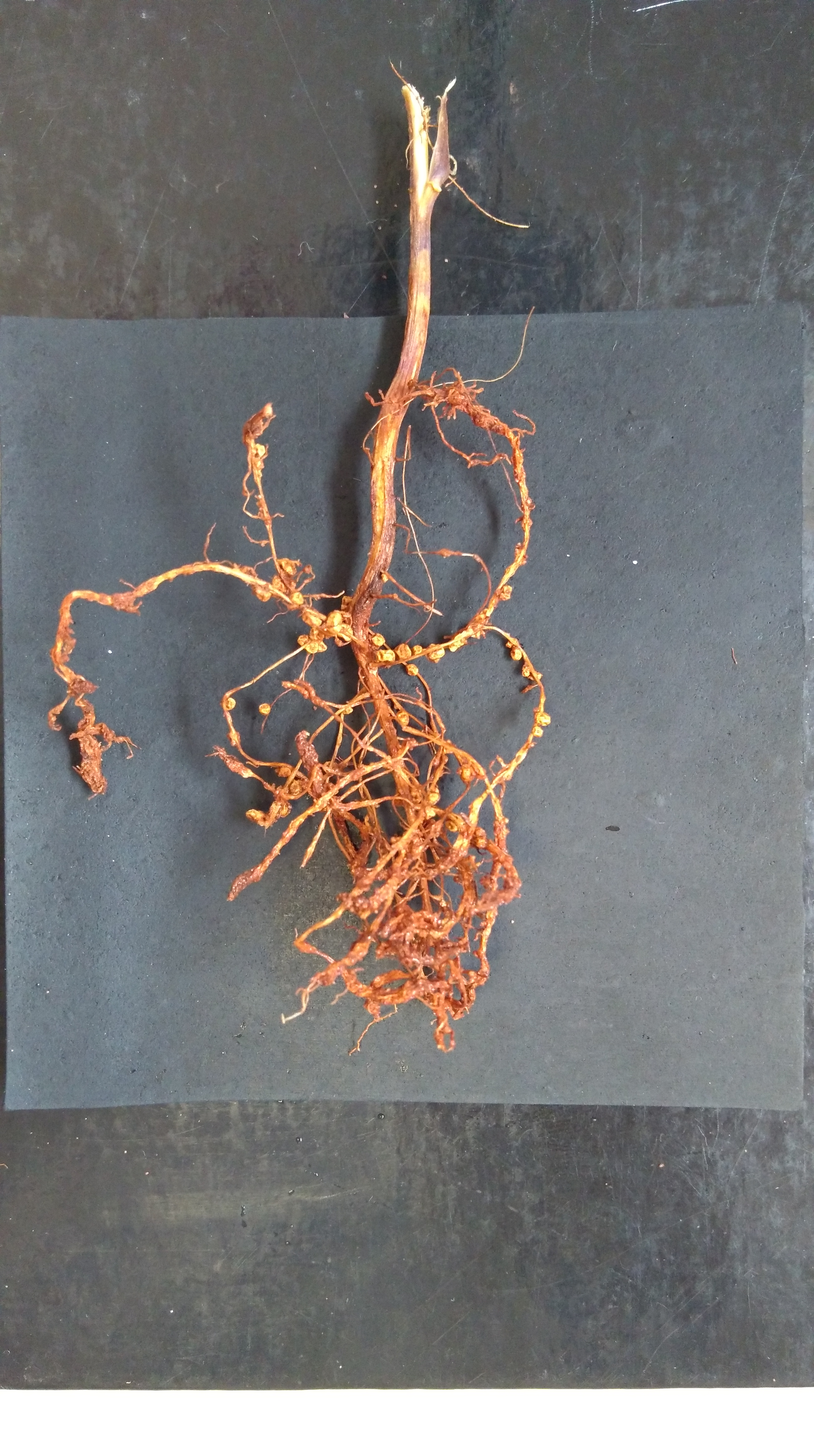nodule: (333, 622, 354, 647), (424, 642, 446, 664), (324, 609, 341, 634), (300, 611, 323, 628), (277, 557, 298, 575), (448, 636, 468, 653), (394, 642, 412, 660), (460, 763, 477, 782), (532, 711, 552, 727), (375, 648, 396, 663), (394, 709, 411, 726), (243, 809, 265, 822), (254, 588, 273, 603), (271, 574, 286, 593), (498, 584, 512, 603), (288, 779, 302, 797), (508, 646, 523, 662), (370, 632, 386, 647), (404, 662, 420, 677), (303, 641, 320, 655), (288, 592, 305, 605), (443, 819, 458, 833), (423, 805, 437, 820), (427, 791, 441, 805), (257, 702, 271, 716), (530, 725, 545, 738), (224, 696, 237, 711), (275, 766, 291, 778), (296, 634, 310, 647), (315, 640, 328, 654), (526, 671, 543, 681), (308, 627, 320, 641), (475, 835, 487, 848), (253, 443, 265, 456), (340, 705, 354, 716), (411, 644, 423, 656), (474, 827, 486, 839), (521, 663, 530, 678), (302, 564, 313, 575), (504, 639, 513, 649)
